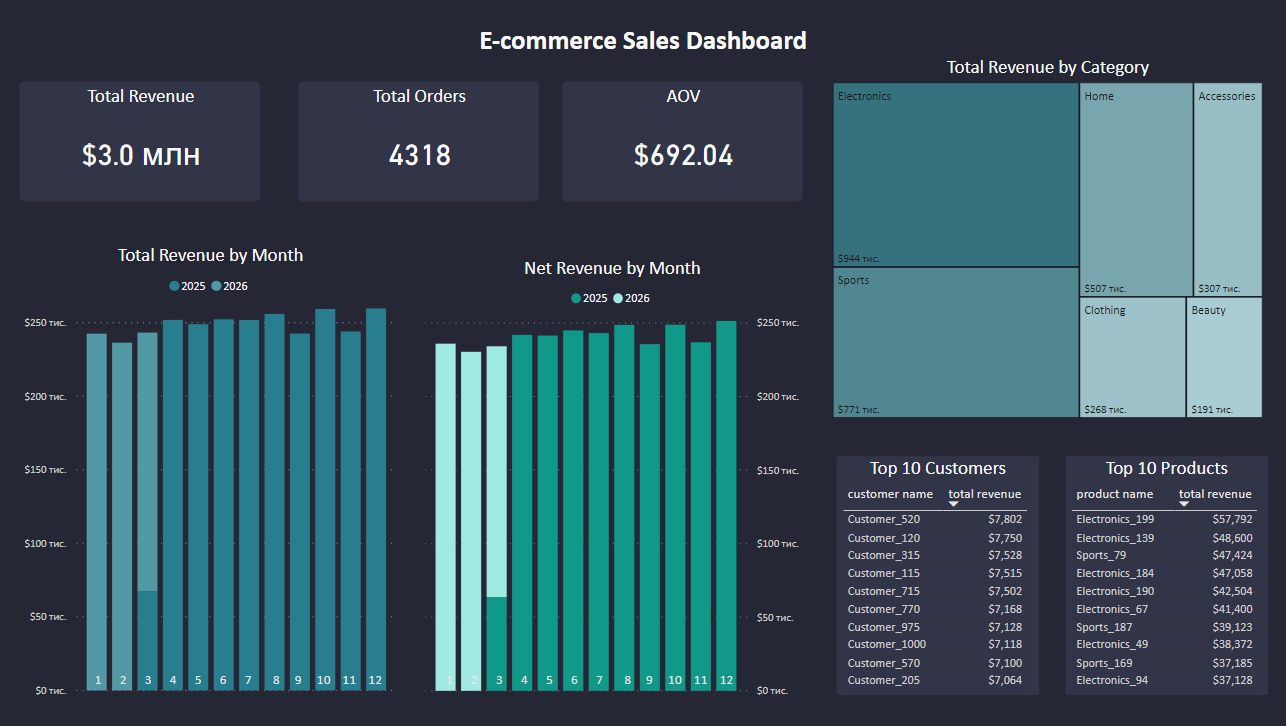

The page's visual inventory and layout, read from the dashboard file:
{"tool":"powerbi","page":{"name":"Сторінка 1","canvas":[1280,720],"ordinal":0},"visuals":[{"type":"card","title":"Total Revenue","fields":{"Values":["order_items.total_revenue"]},"box":[21.1,80.6,239.4,119.1],"z":0},{"type":"card","title":"Total Orders","fields":{"Values":["orders.total_orders"]},"box":[297.7,80.6,239.4,119.1],"z":1000},{"type":"card","title":"AOV","fields":{"Values":["order_items.AOV"]},"box":[559.4,80.6,239.4,119.1],"z":2000},{"type":"columnChart","title":"Total Revenue by Month","fields":{"Y":["order_items.total_revenue"],"Category":["orders.order_date.Варіація.Ієрархія дат.Рік","orders.order_date.Варіація.Ієрархія дат.Квартал","orders.order_date.Варіація.Ієрархія дат.Місяць","orders.order_date.Варіація.Ієрархія дат.День"]},"box":[21.1,241.9,379.5,456.4],"z":3000},{"type":"columnChart","title":"Net Revenue by Month","fields":{"Y":["customers.Net_Revenue"],"Category":["orders.order_date.Варіація.Ієрархія дат.Рік","orders.order_date.Варіація.Ієрархія дат.Квартал","orders.order_date.Варіація.Ієрархія дат.Місяць","orders.order_date.Варіація.Ієрархія дат.День"]},"box":[419.2,254.3,380.8,444],"z":4000},{"type":"treemap","title":"Total Revenue by Category","fields":{"Group":["products.category"],"Values":["order_items.total_revenue"]},"box":[823.6,54.6,436.6,364.7],"z":5000},{"type":"tableEx","title":"Top 10 Products","fields":{"Values":["products.product_name","order_items.total_revenue"]},"box":[1059.2,452.7,200.9,236.9],"z":6000},{"type":"tableEx","title":"Top 10 Customers","fields":{"Values":["customers.customer_name","order_items.total_revenue"]},"box":[832.2,452.7,200.9,236.9],"z":7000},{"type":"textbox","box":[430.4,661.1,320,28.5],"z":8000},{"type":"textbox","box":[81.9,661.1,320,28.5],"z":9000},{"type":"textbox","box":[456.4,18.6,367.1,52.1],"z":10000}]}

Visuals, with their boxes in screenshot pixels (x1, y1, x2, y2), scaled from the page's 1280x720 canvas onto the 1286x726 screenshot:
"Total Revenue" card: locate(21, 81, 262, 201)
"Total Orders" card: locate(299, 81, 540, 201)
"AOV" card: locate(562, 81, 803, 201)
"Total Revenue by Month" columnChart: locate(21, 244, 402, 704)
"Net Revenue by Month" columnChart: locate(421, 256, 804, 704)
"Total Revenue by Category" treemap: locate(827, 55, 1266, 423)
"Top 10 Products" tableEx: locate(1064, 456, 1266, 695)
"Top 10 Customers" tableEx: locate(836, 456, 1038, 695)
textbox: locate(432, 667, 754, 695)
textbox: locate(82, 667, 404, 695)
textbox: locate(459, 19, 827, 71)
